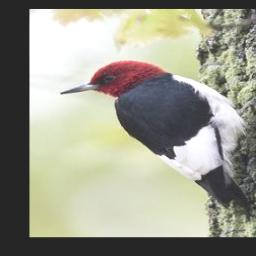Woodpecker: (49, 57, 256, 219)
